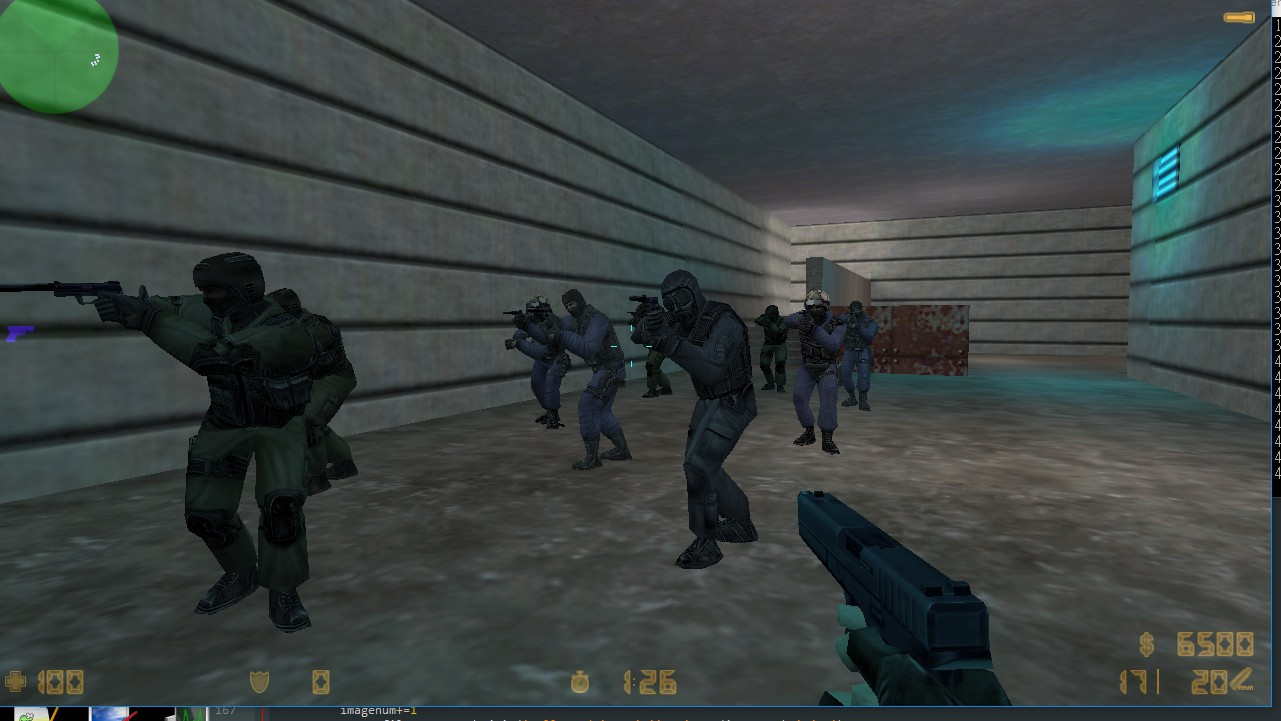person: (40, 236, 320, 642), (631, 257, 776, 584), (544, 270, 640, 481), (782, 281, 849, 459), (505, 290, 569, 444), (844, 285, 880, 414), (756, 297, 786, 399)
